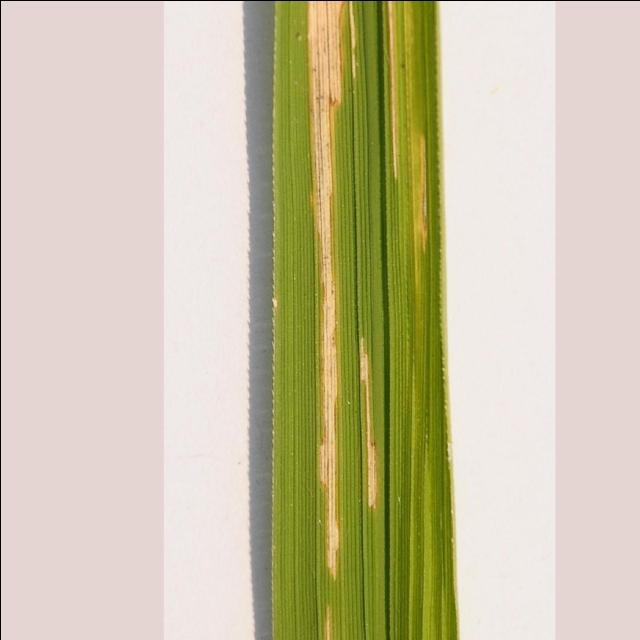Bacterial leaf blight: (246, 0, 468, 640)
